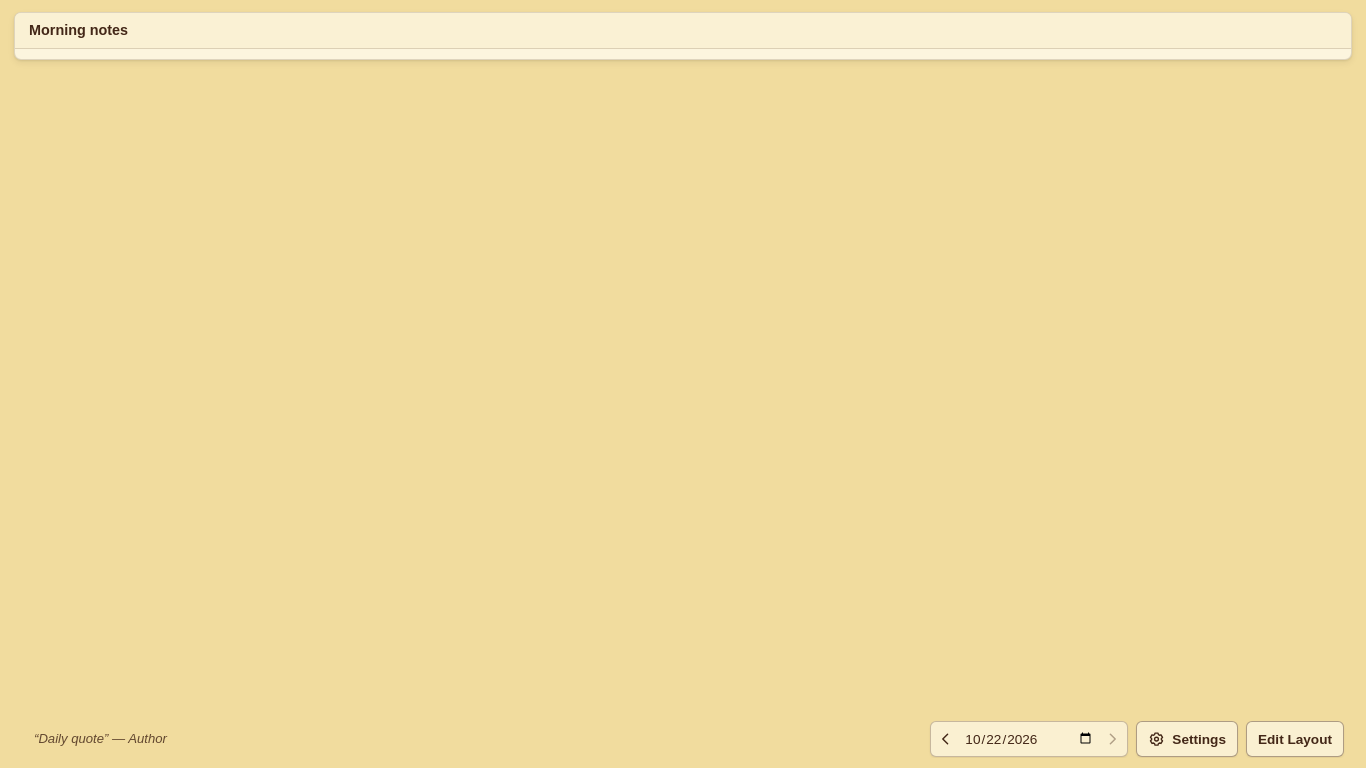
Test: Journal app › keeps a deliberately selected historical date while updating Today
The width and height of the screenshot is (1366, 768).
Expected: the text "Morning notes" is shown, [15,13,1351,49]
Click the button named "Previous day" at (946, 739), box [933,726,959,752]
Wait 1000 ms
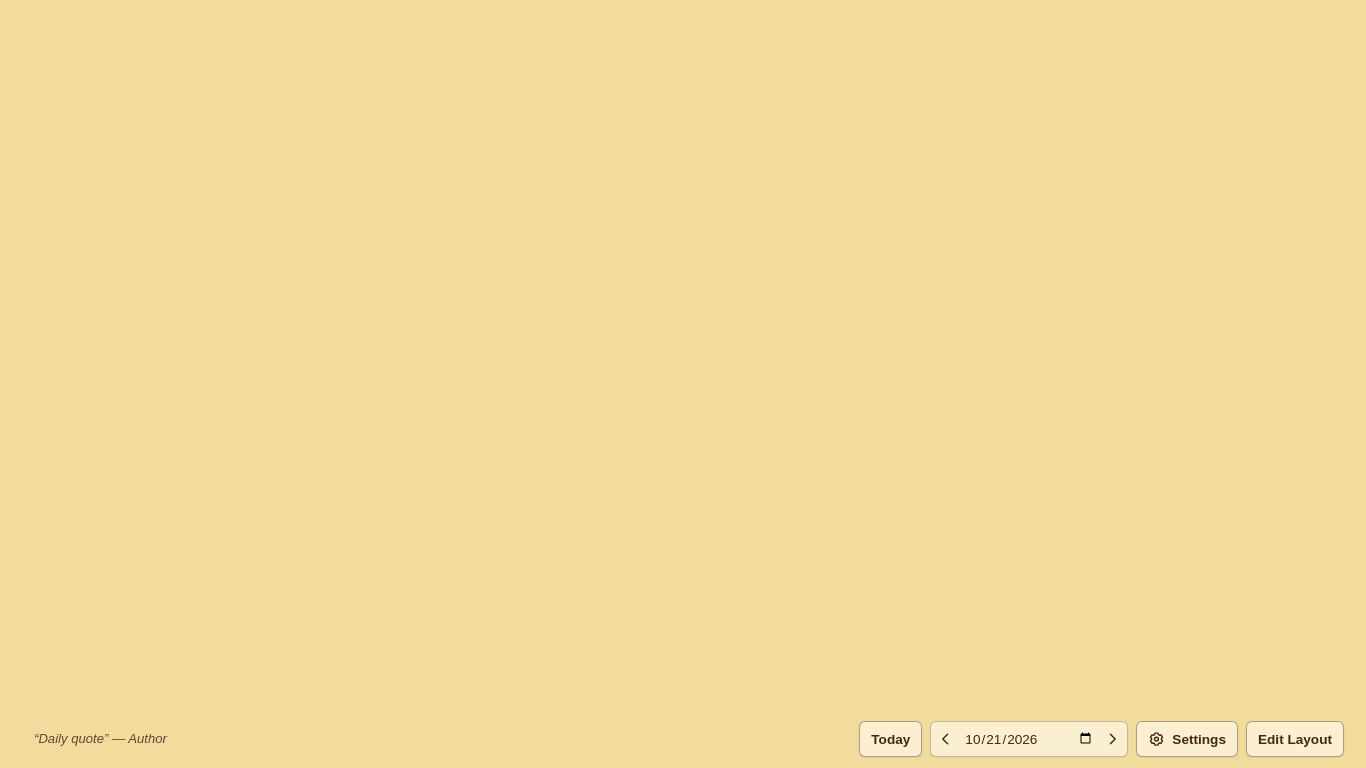
Expected: the date field named "Journal date" holds "2026-10-21", [959,726,1099,752]
Click the button "Today" at (891, 739), box [859,721,922,757]
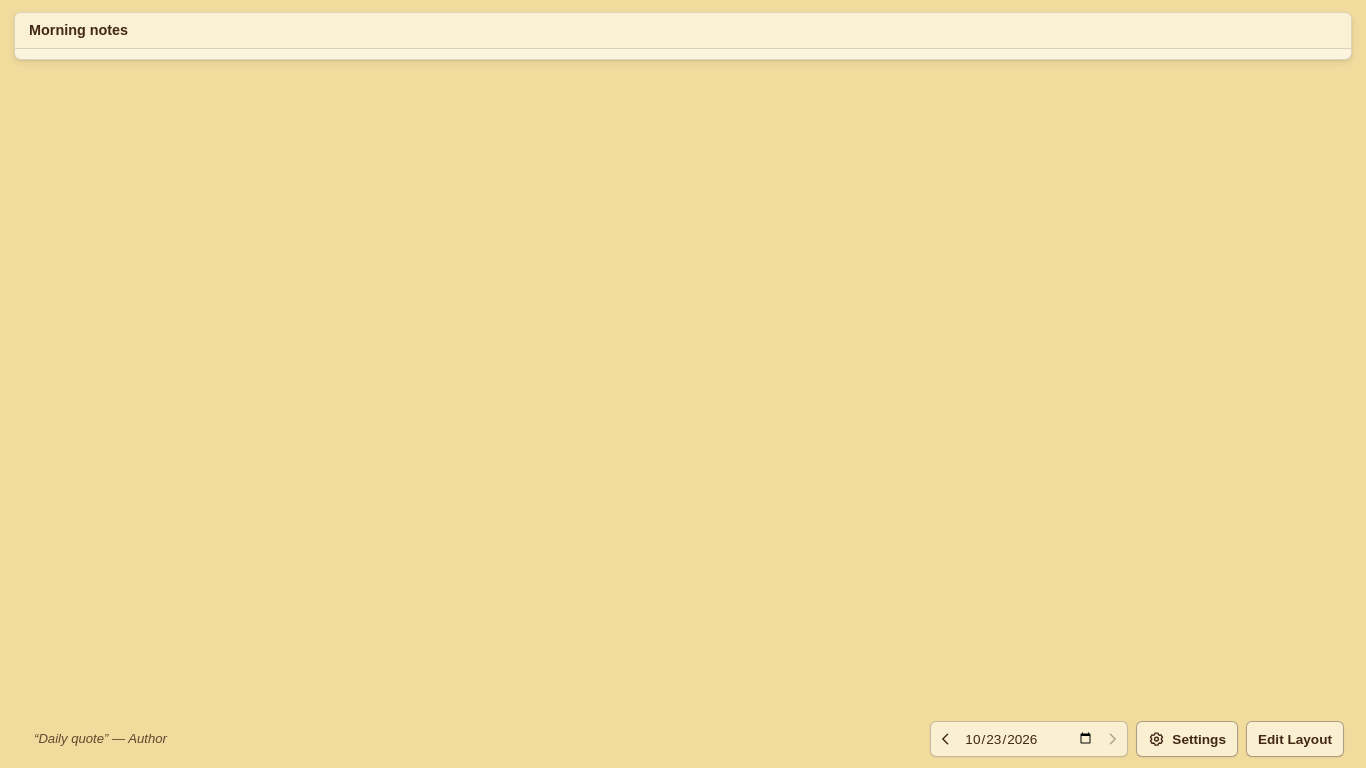
Expected: the date field named "Journal date" holds "2026-10-23", [959,726,1099,752]
